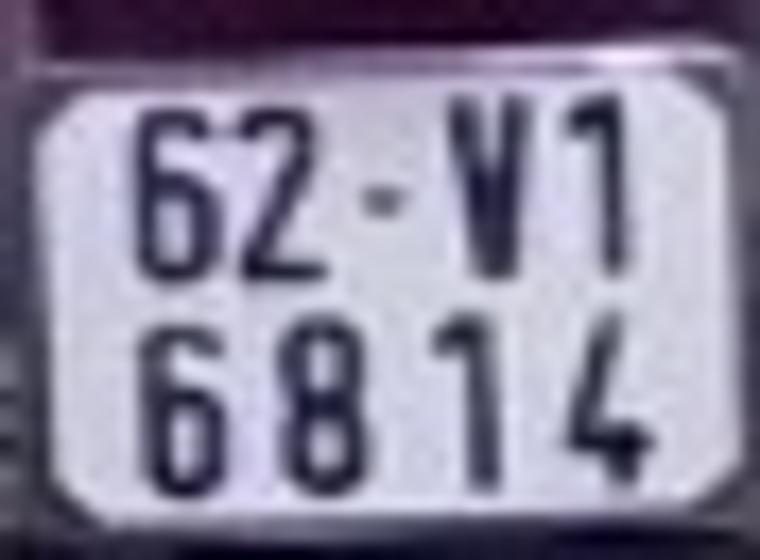.: (354, 185, 405, 219)
1: (429, 311, 502, 489), (568, 89, 626, 281)
2: (237, 107, 323, 283)
4: (567, 307, 653, 484)
6: (132, 321, 230, 504), (129, 107, 218, 283)
8: (273, 311, 367, 500)
V: (446, 92, 530, 281)
